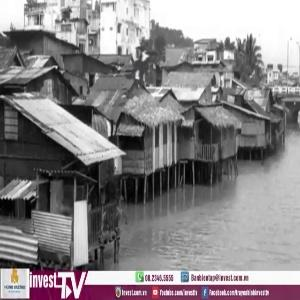drone: (91, 19, 190, 118)
